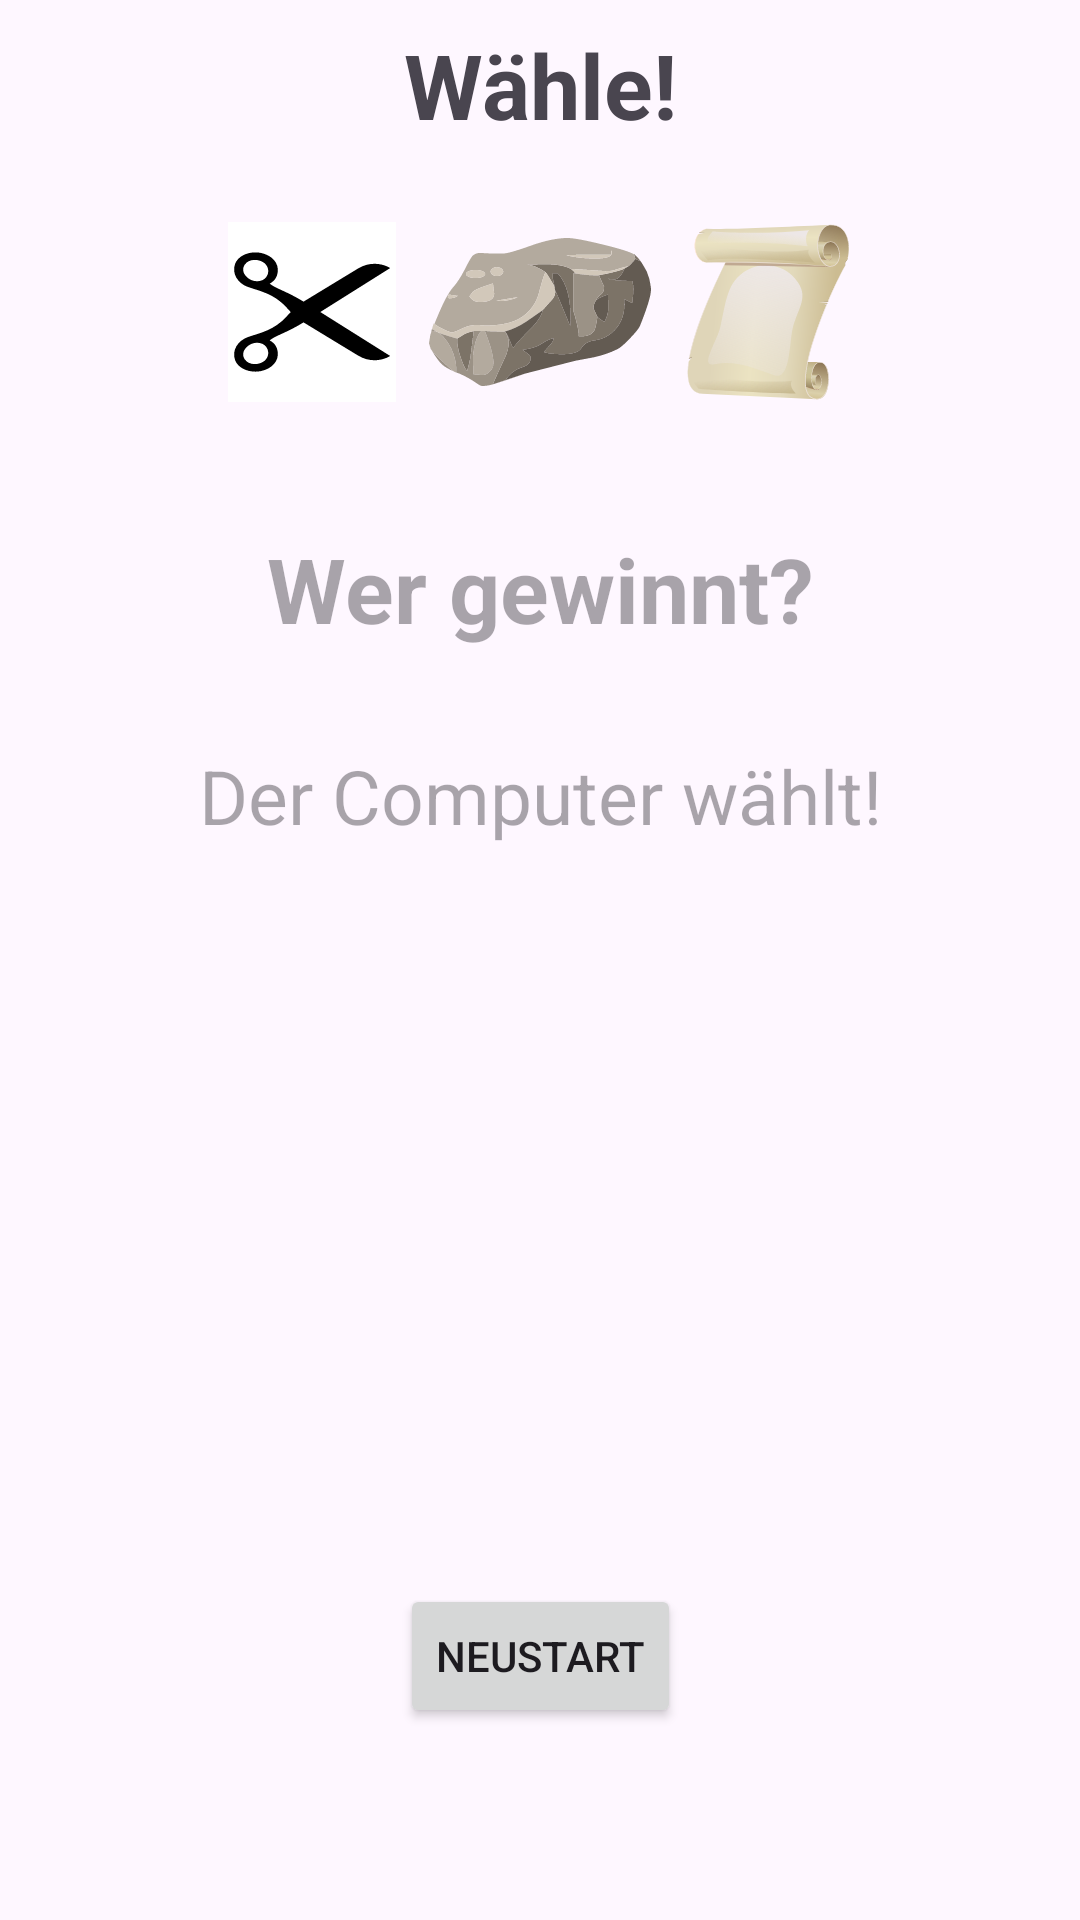

Screen size 1080w x 1920h. Icon name, then its center in pixels as (x,y):
paper: (768,312)
rock: (540,312)
scissors: (312,312)
